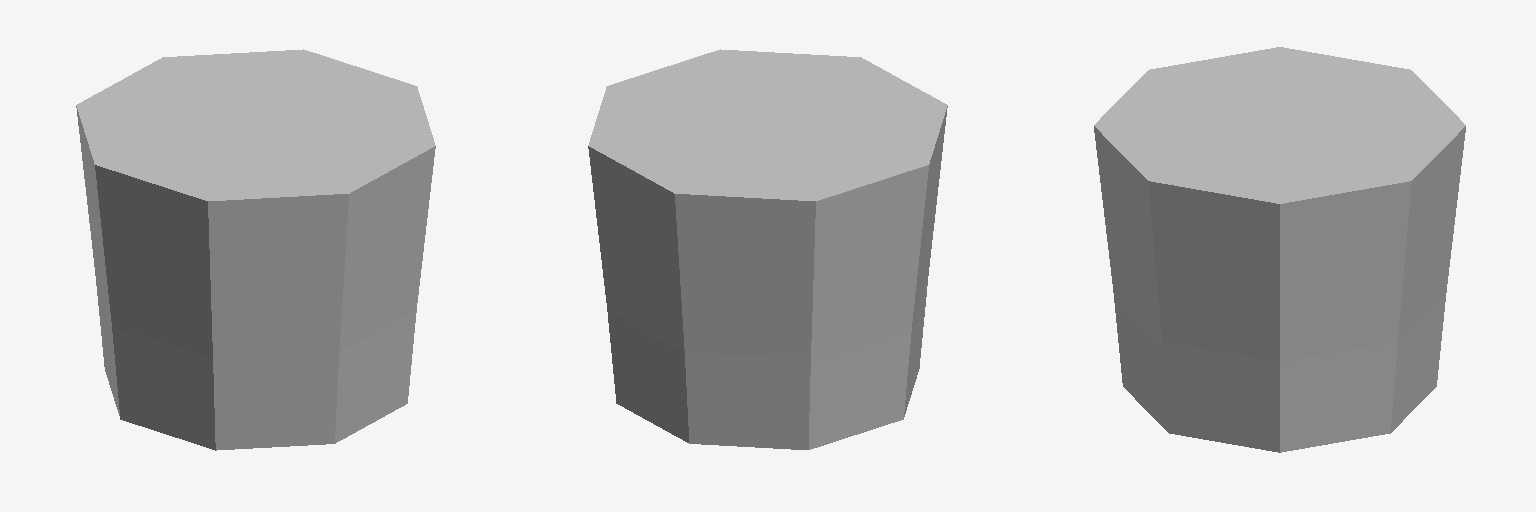
Rendered from Erlenmeyer_Normal_Stopper.obj.
The picture shows the model from 3 angles: view 1: azimuth 30°, elevation 25°; view 2: azimuth 150°, elevation 25°; view 3: azimuth 270°, elevation 25°; orthographic projection.
Parts seen in each view (by area): view 1: Mesh1 Model; view 2: Mesh1 Model; view 3: Mesh1 Model.
Part boxes in pixels (x1,y1,x2,y2): Mesh1 Model: (76, 49, 435, 450); Mesh1 Model: (588, 49, 947, 449); Mesh1 Model: (1094, 47, 1465, 452).
Size of the model in its own units: 0.071 by 0.055 by 0.0711.